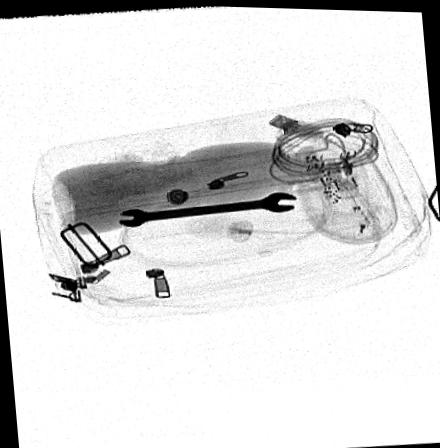Wrench: (117, 190, 297, 227)
